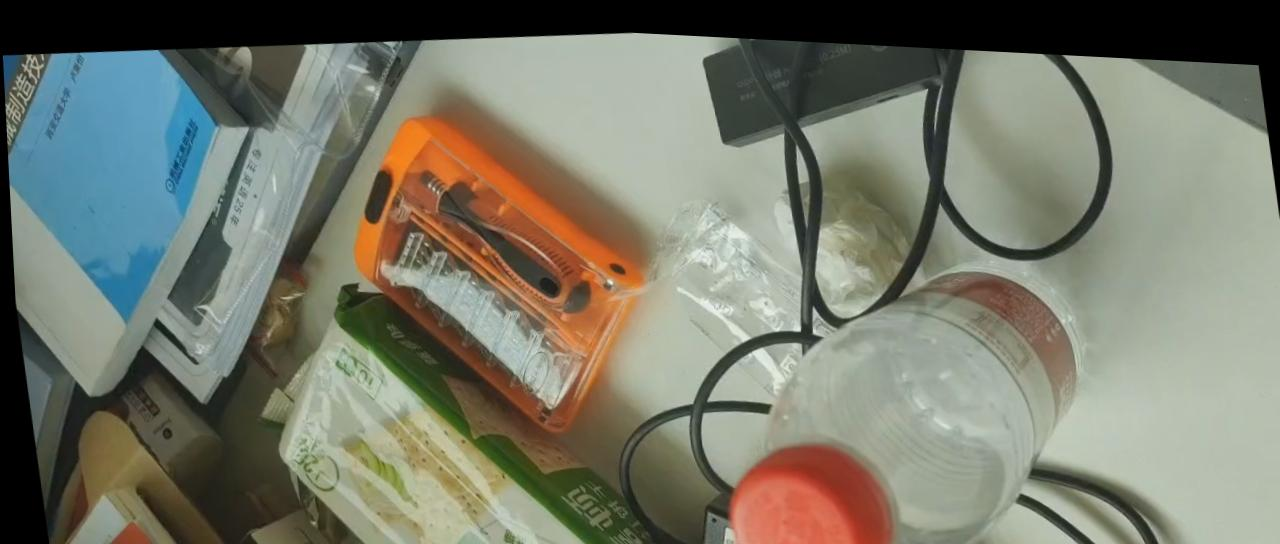plastic: (112, 43, 414, 399), (256, 285, 650, 543), (722, 271, 1077, 540)
